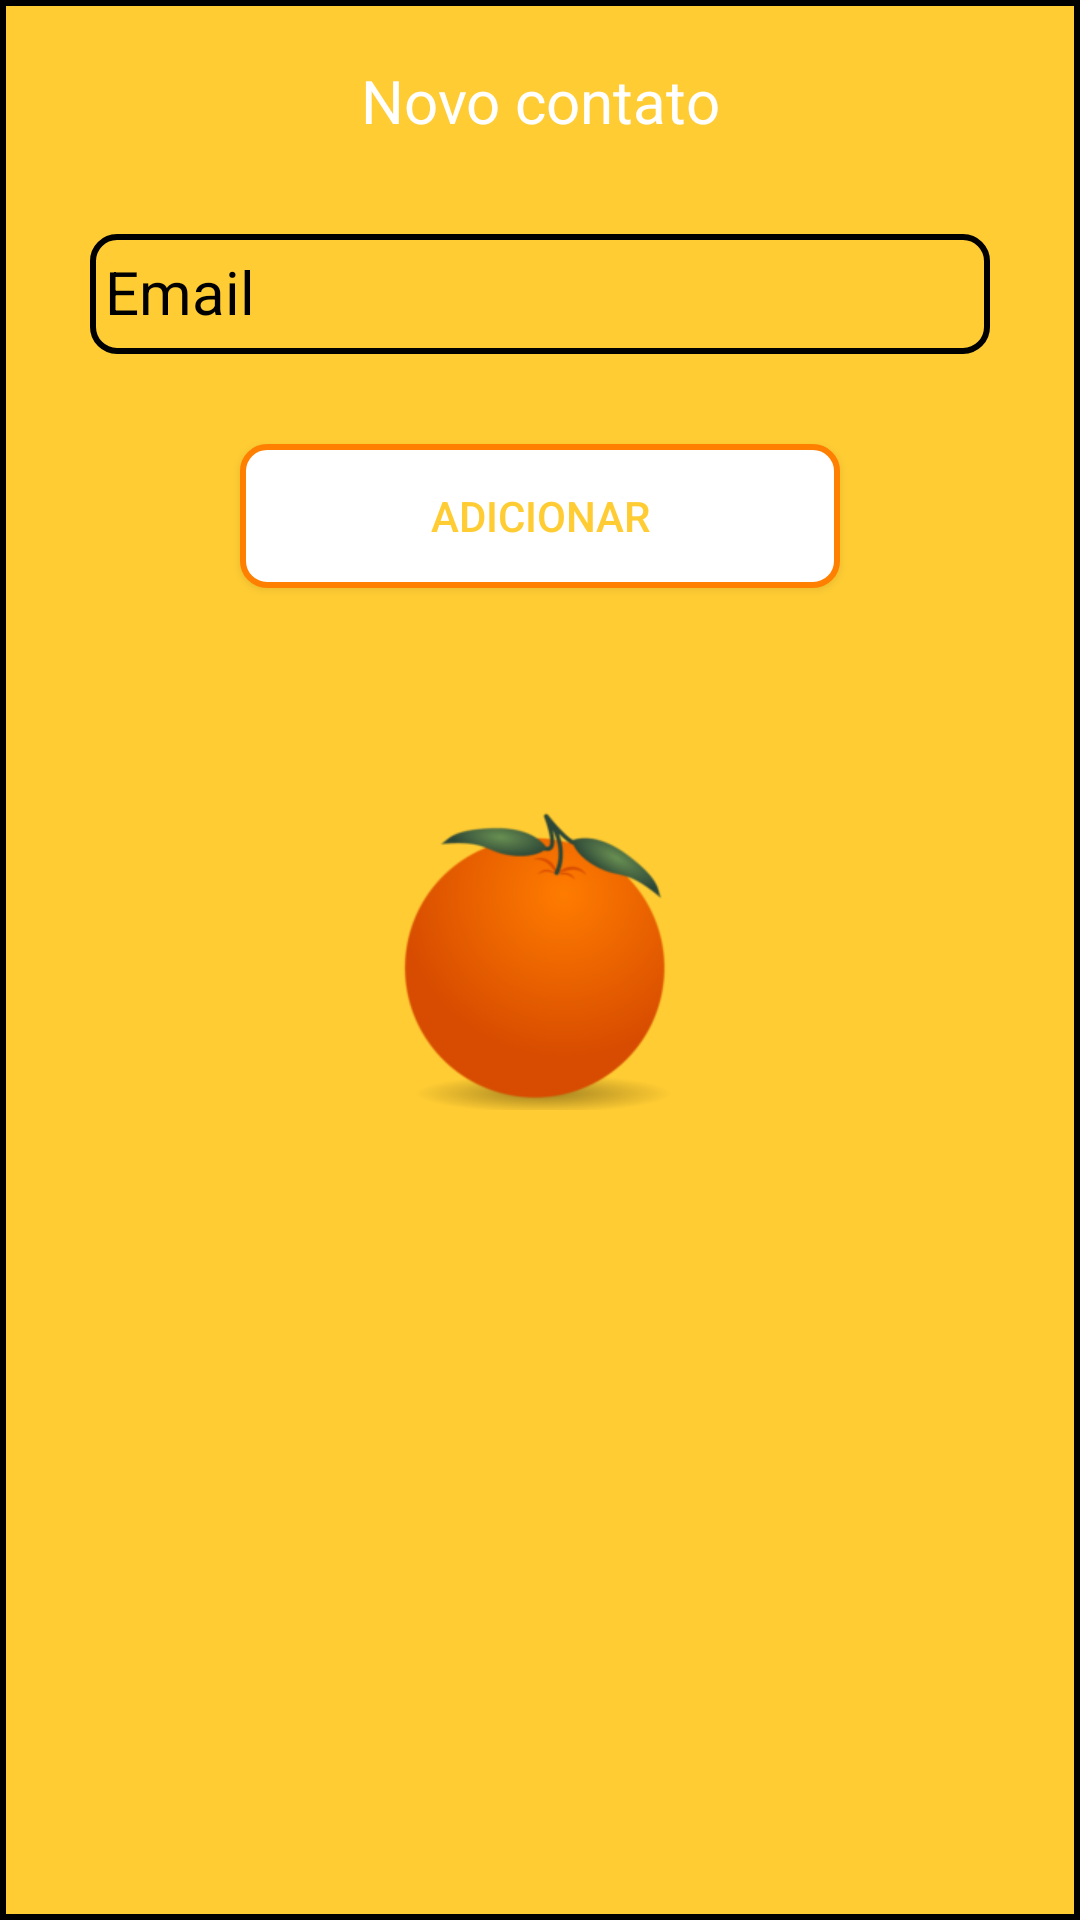

Icon click points for this 1080px x 1920px phone screenshot, format point (x, y):
laranja pequena: point (534, 960)
